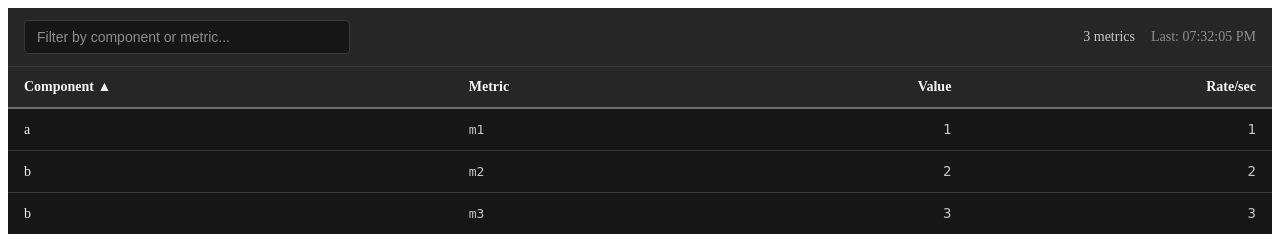
MetricsTab › Filtering › should show filtered count when filtering
Type "b" into the field with test id "metrics-filter" at (187, 37), box [24, 20, 350, 54]
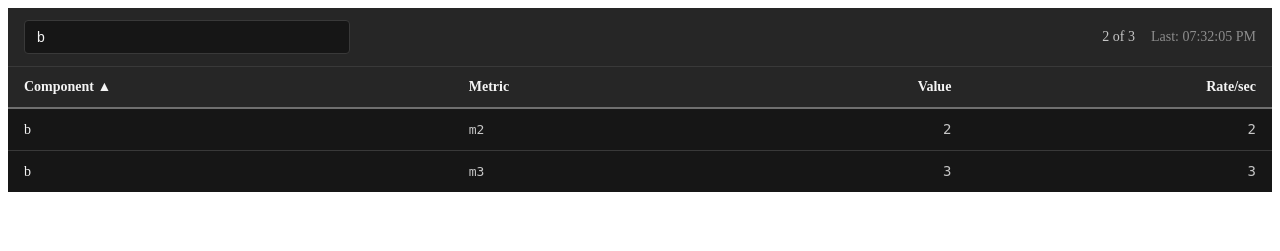
Expected: the text with test id "metrics-count" reads "2 of 3", [1102, 29, 1135, 44]
